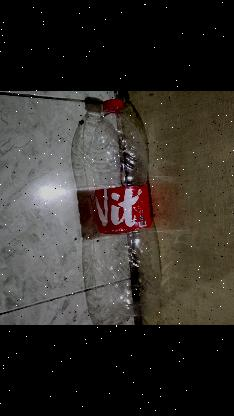Plastic Bottle: (70, 92, 160, 324)
